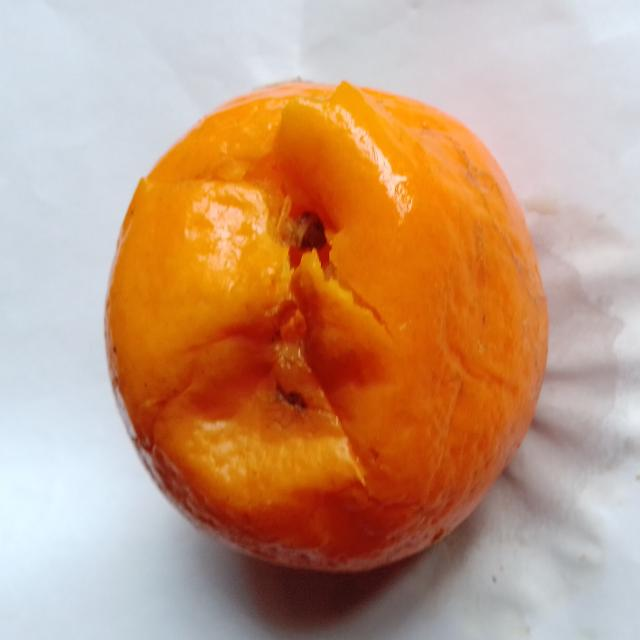orange: (106, 83, 547, 571)
